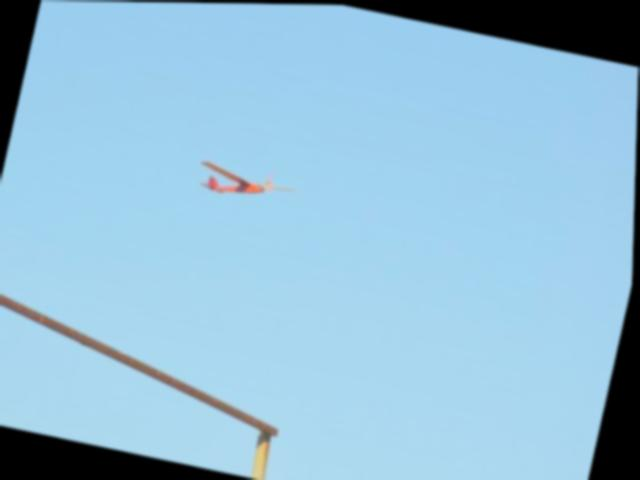iha: (201, 160, 297, 204)
